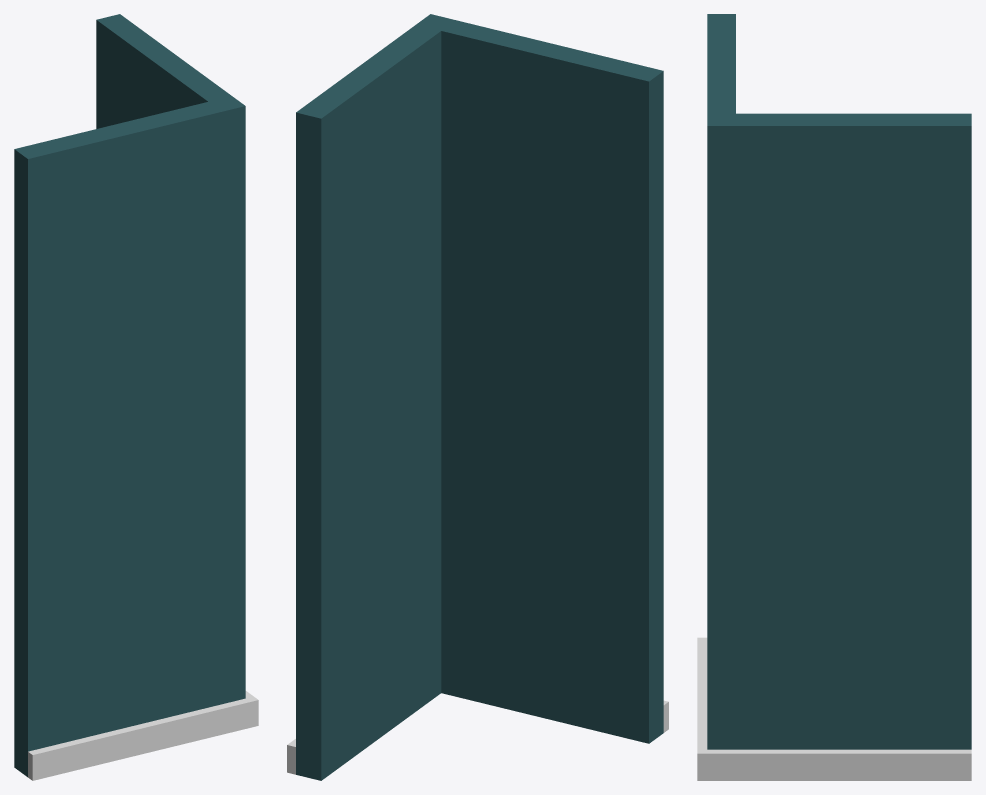
The model's file is Wall_corner_2_office.glb.
3 renders of one model, left to right at view 1: azimuth 30°, elevation 25°; view 2: azimuth 150°, elevation 25°; view 3: azimuth 270°, elevation 25°, orthographic. The views are drawn at different scales.
Parts seen in each view (by area): view 1: Corner_Wall_2, Baseboard_2; view 2: Corner_Wall_2; view 3: Corner_Wall_2, Baseboard_2.
Part boxes in pixels (<box>): Corner_Wall_2: <box>14,14,245,777</box>; Baseboard_2: <box>28,691,258,780</box>; Corner_Wall_2: <box>296,14,663,780</box>; Corner_Wall_2: <box>707,14,971,749</box>; Baseboard_2: <box>697,637,971,780</box>.
Bounding box in the file's own units: 1.1 × 2.87 × 1.1.
